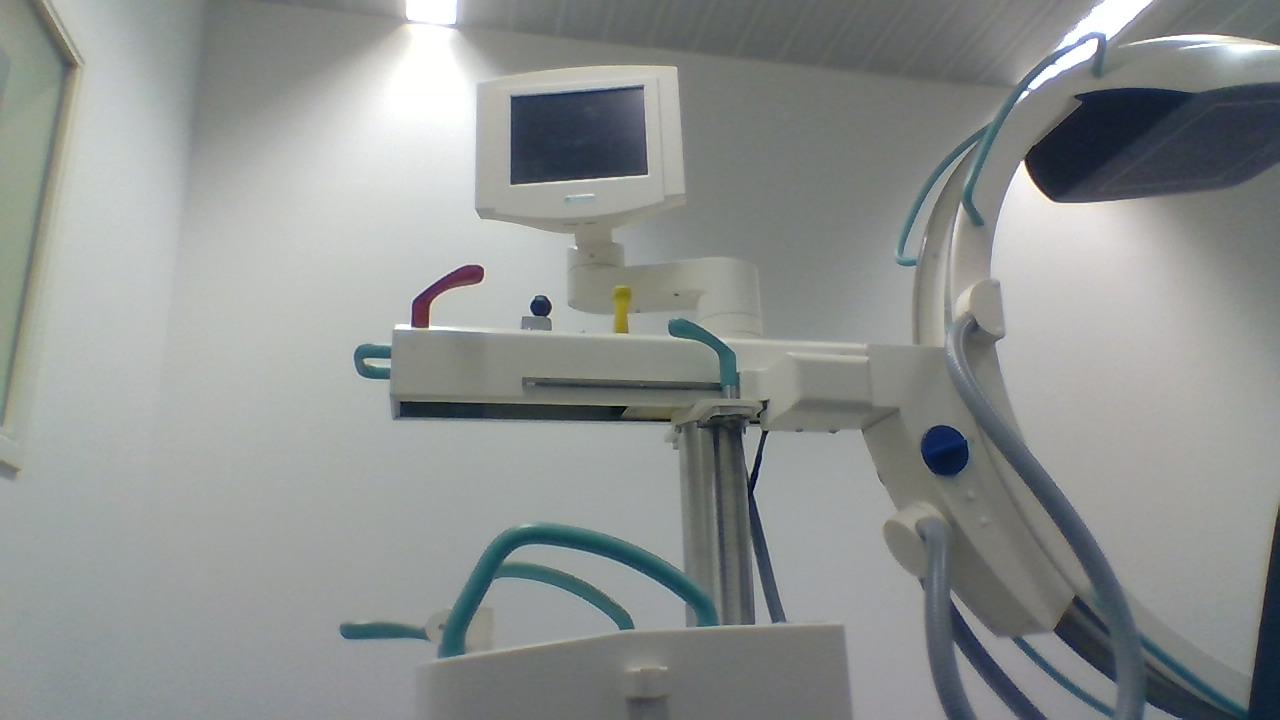carmBACK: (337, 601, 498, 657)
carmLOCK: (920, 425, 969, 477)
carmSCREEN: (473, 62, 685, 221)
